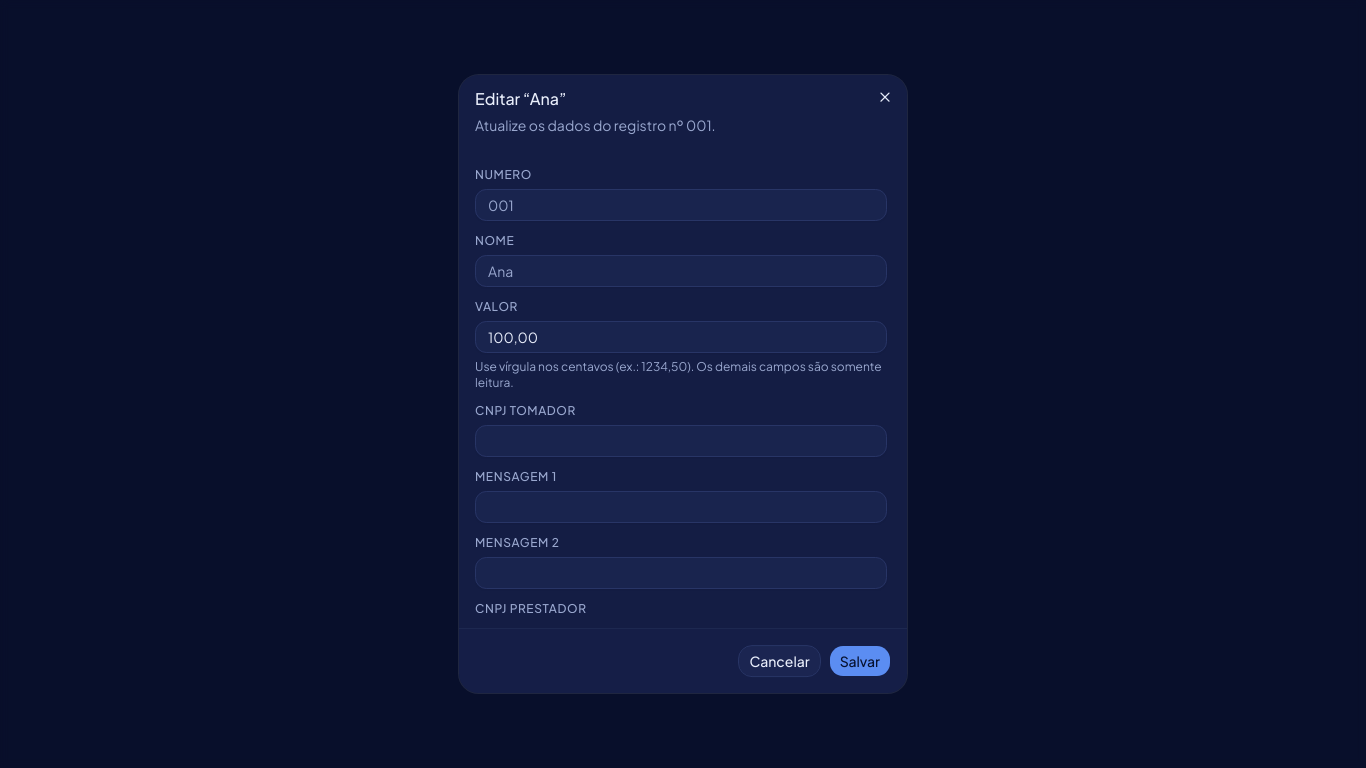
EditDialog — correção de valor › valor corrigido mas mensagem não ajustada: mostra o aviso e mantém o diálogo aberto
The width and height of the screenshot is (1366, 768).
Replace the text in the field labelled "Valor" with "150,00" at point(681, 337), box [475,321,887,353]
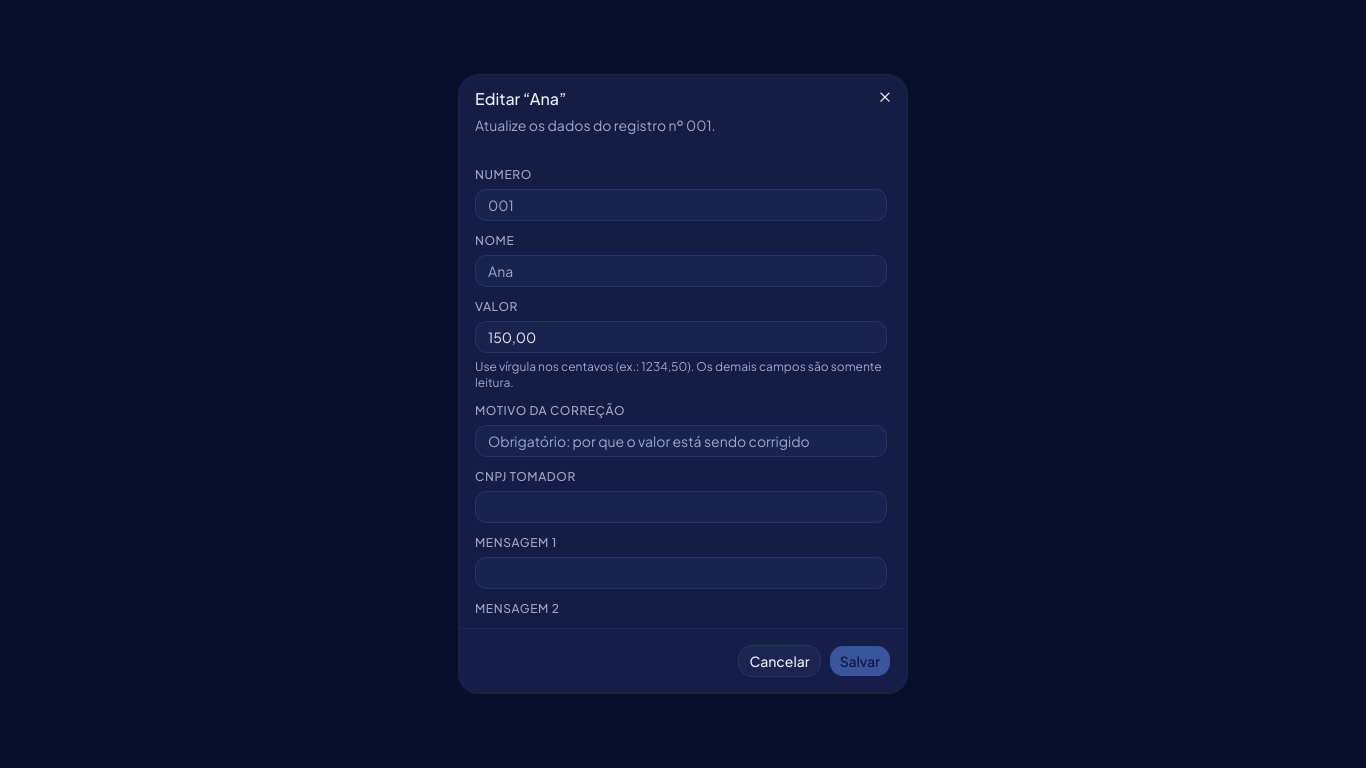
Type "x" into the field labelled "Motivo da correção" at point(681, 441), box [475,425,887,457]
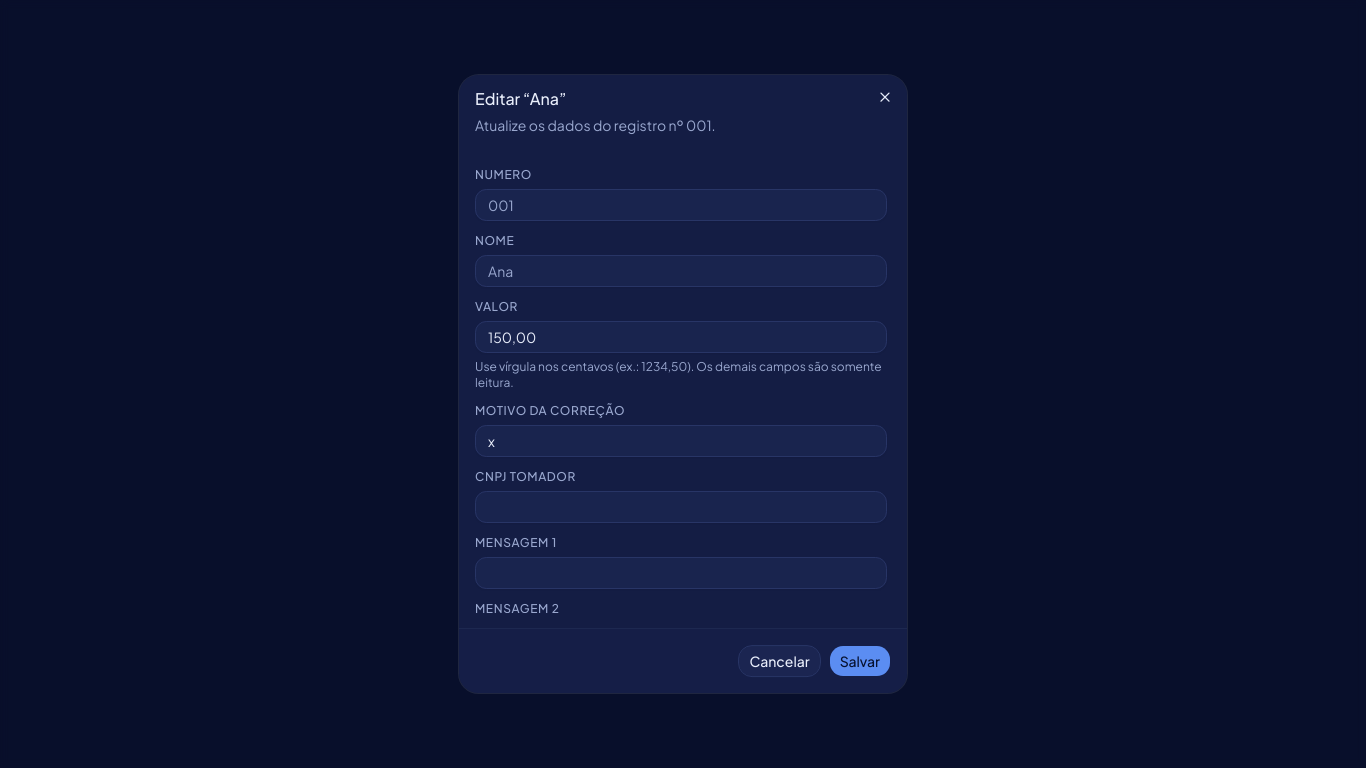
Click the button "Salvar" at point(860, 661), box [829,645,891,677]
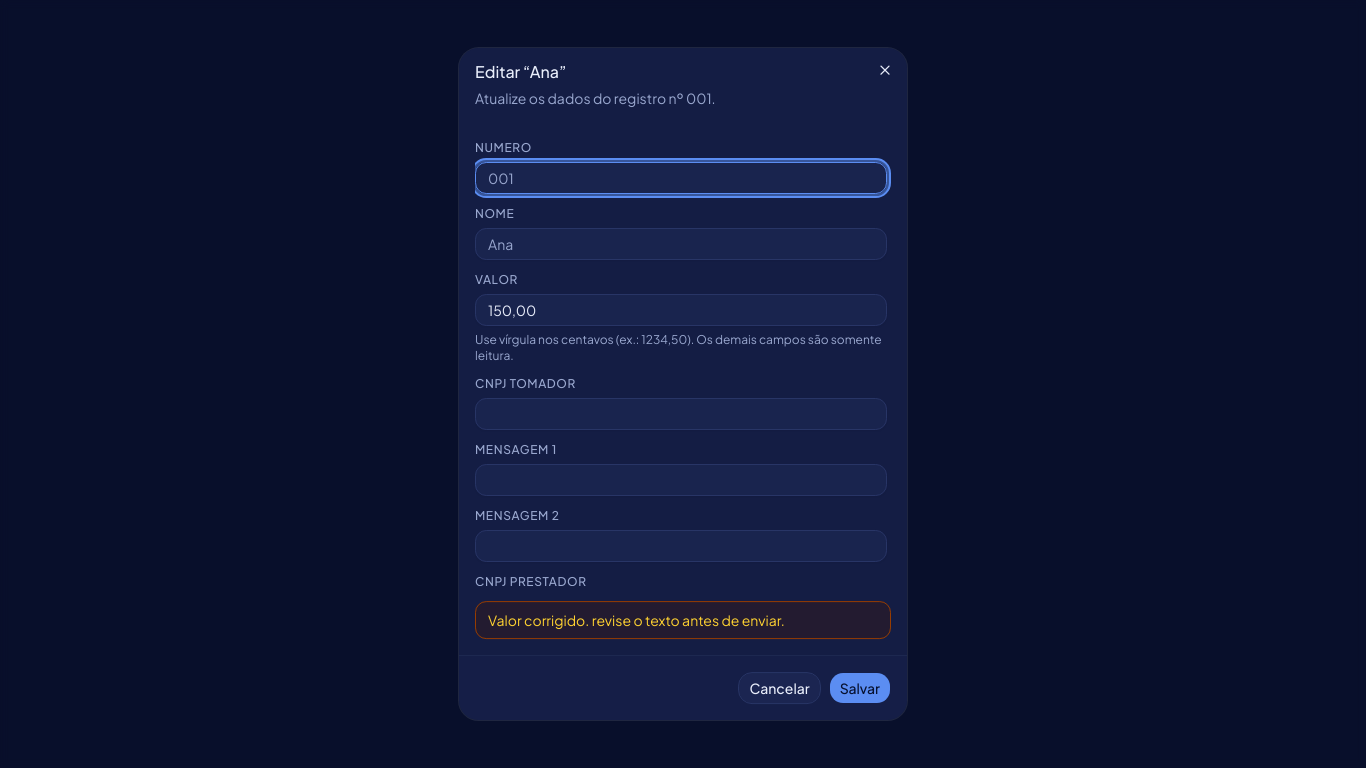
Now the message shows "revise o texto antes de enviar", box [488,611,785,629]
